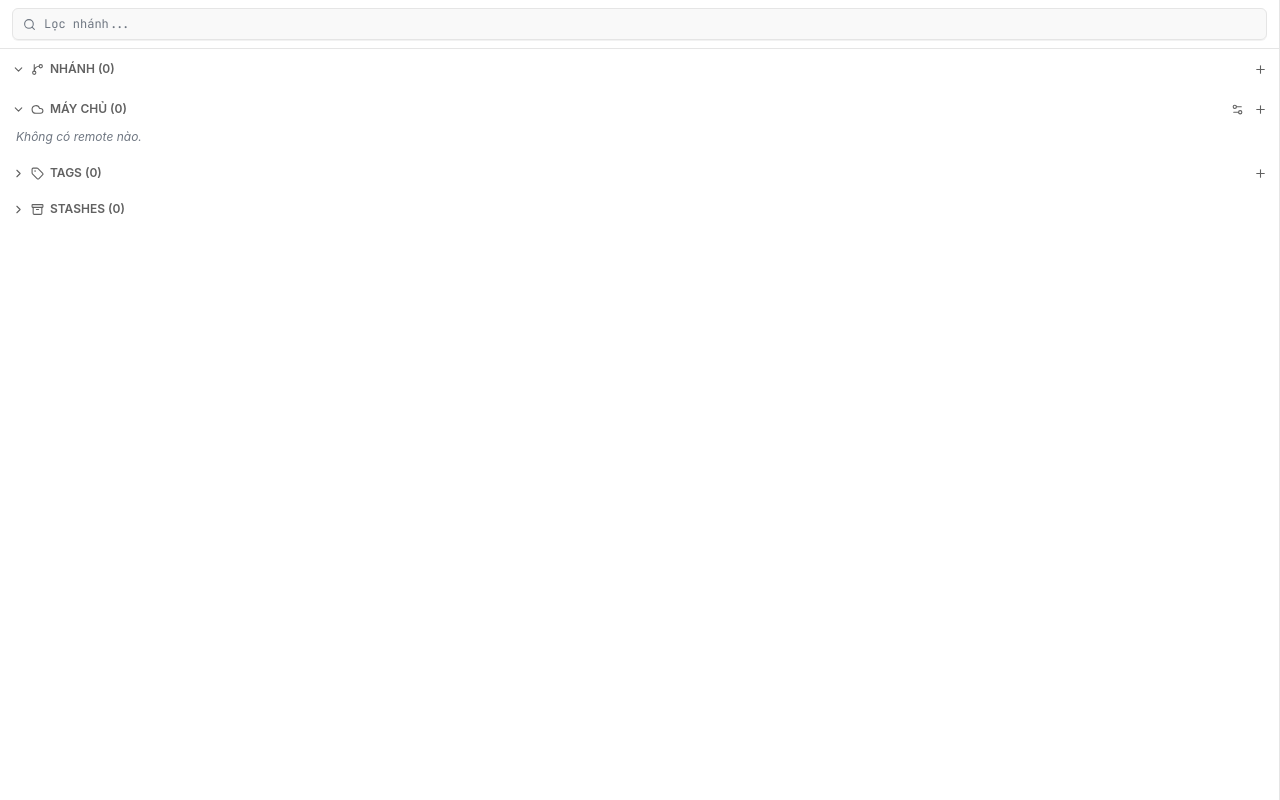
Test: BranchSidebar - Tags Management › renders tag list with short commit SHA when accordion is opened
Click the button "TAGS (0)" at (66,172), box [8,161,1250,185]
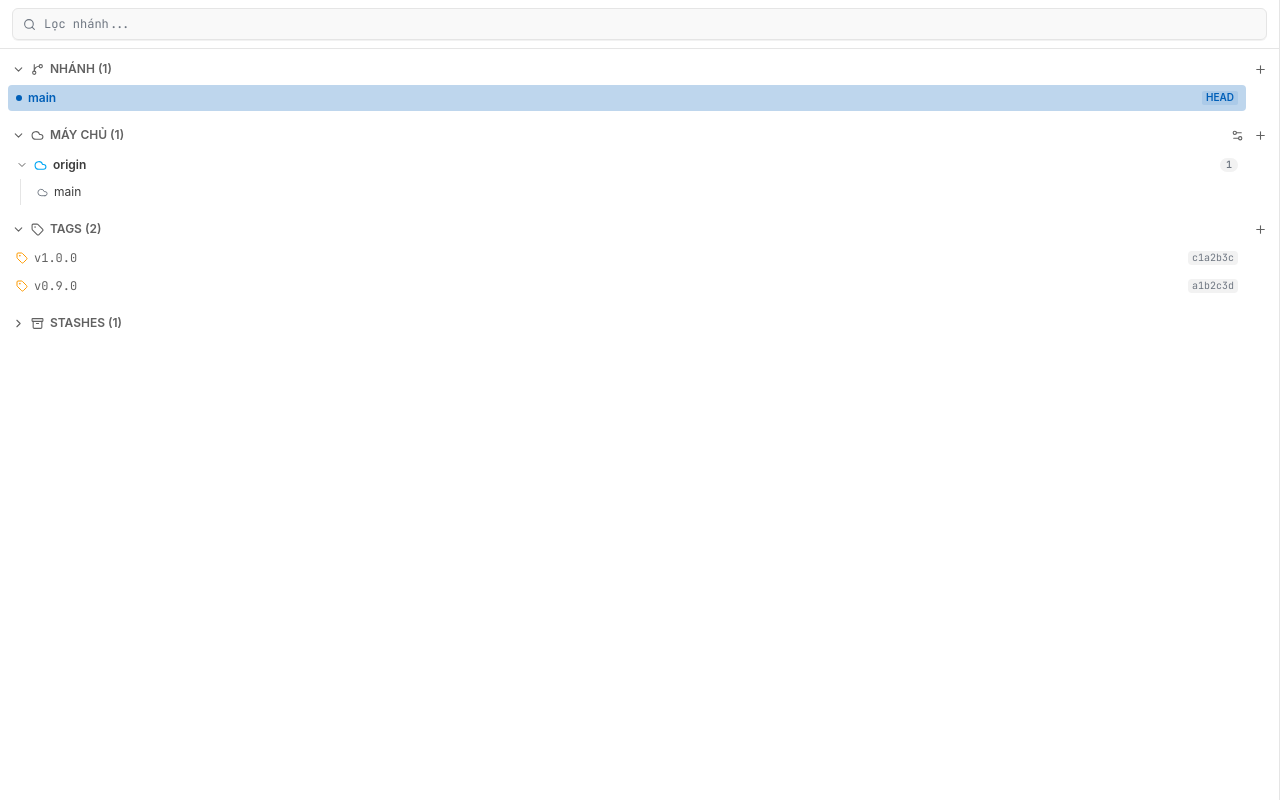
Expected: the text "v1.0.0" is shown, [34,250,77,266]
Expected: the text "c1a2b3c" is shown, [1188,251,1238,265]
Expected: the text "v0.9.0" is shown, [34,278,77,294]
